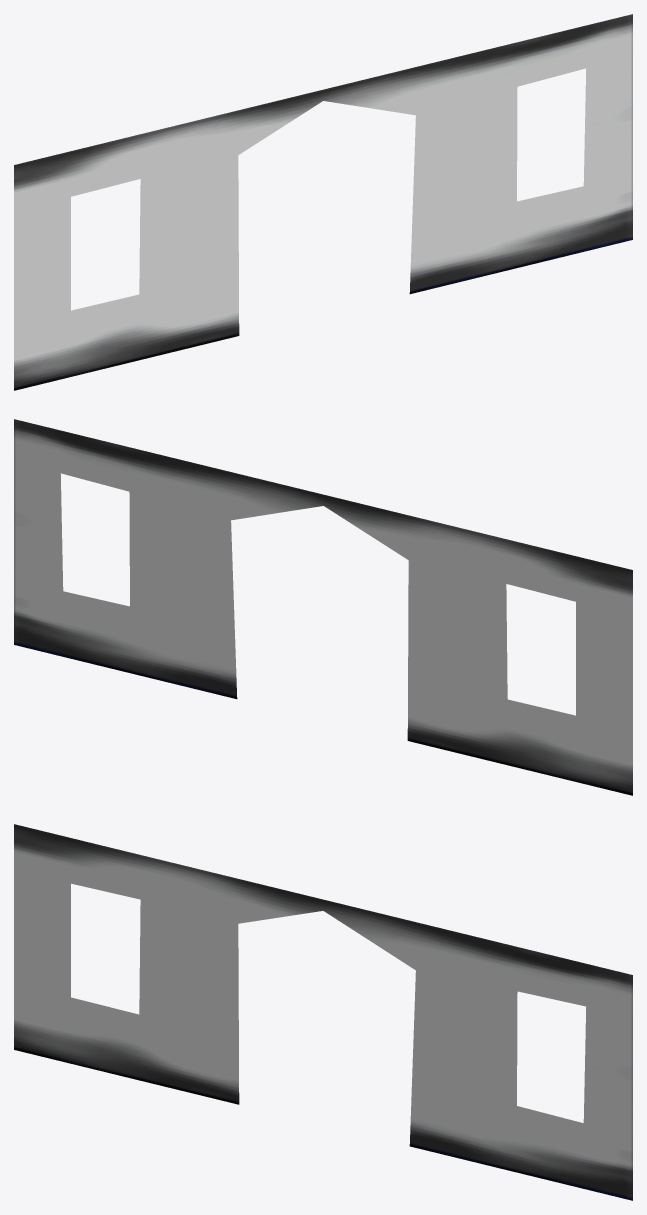
The model's file is W_AI3_fOf [Grau]_452.glb.
3 views of the same model, one above another, from view 1: azimuth 30°, elevation 25°; view 2: azimuth 150°, elevation 25°; view 3: azimuth 330°, elevation 25° (orthographic).
Visible parts, largest first — view 1: polySurfaceShape771; view 2: polySurfaceShape771; view 3: polySurfaceShape771.
Part boxes in pixels (left/top/right/bottom): polySurfaceShape771: left=14, top=14, right=632, bottom=390; polySurfaceShape771: left=14, top=419, right=632, bottom=795; polySurfaceShape771: left=14, top=824, right=632, bottom=1200.
Size of the model in its own units: 1 by 0.3486 by 1.52e-08.
Materials: 1 (1 with a texture image).
